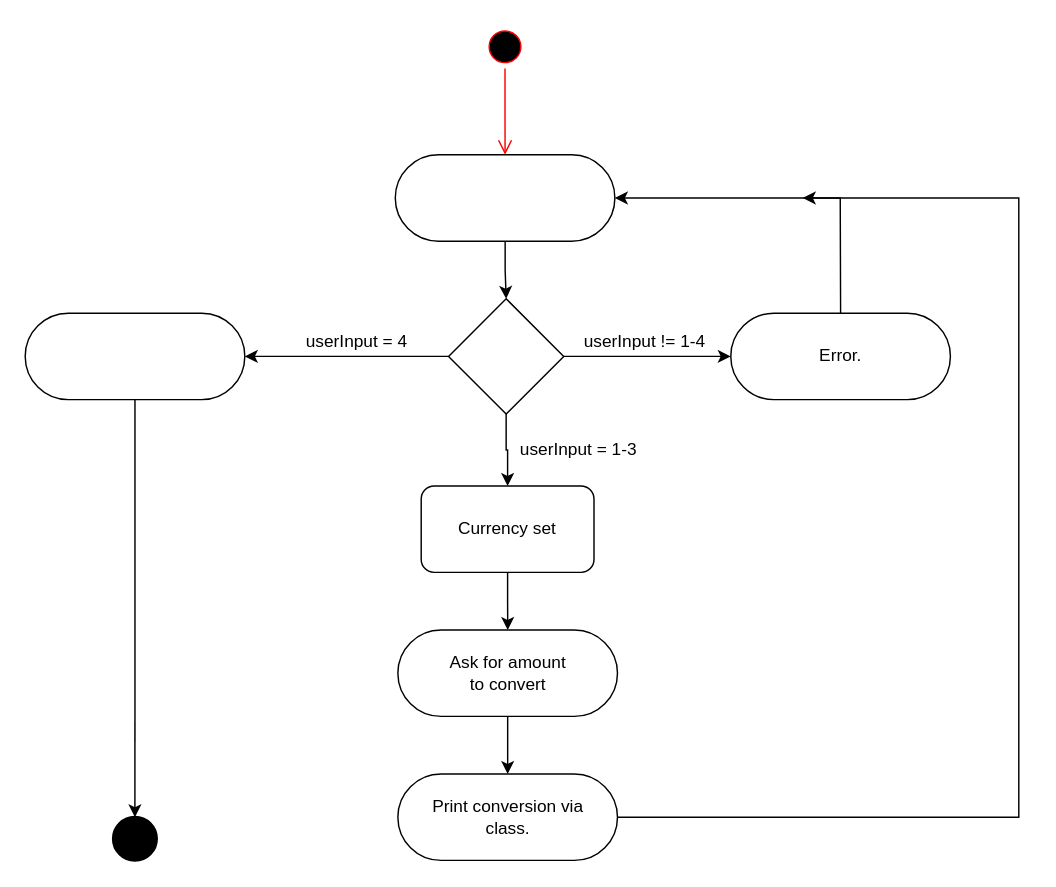
Some shapes in this 1056 by 887 pixel diagram are drawn without their labels. Here are the shapes that lost their labels. From the top down, the centre of each, then its label:
At [504,197]: "Present user with menu. Input determines currency".
At [134,356]: "Exit".
